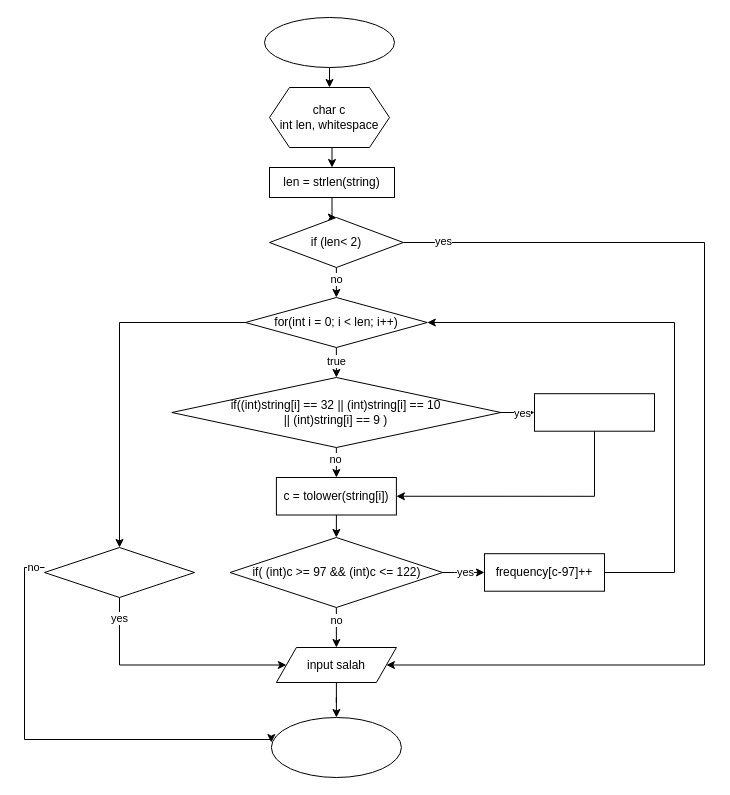
This 730x795 diagram has some shape labels left out. Here are the shapes that lost their labels. From the top down, the box of each, then its label:
(264, 16, 394, 68): frequency
(534, 393, 654, 431): whitespace++
(44, 546, 194, 598): if (whitespace > 0)
(270, 716, 401, 778): SELESAI
